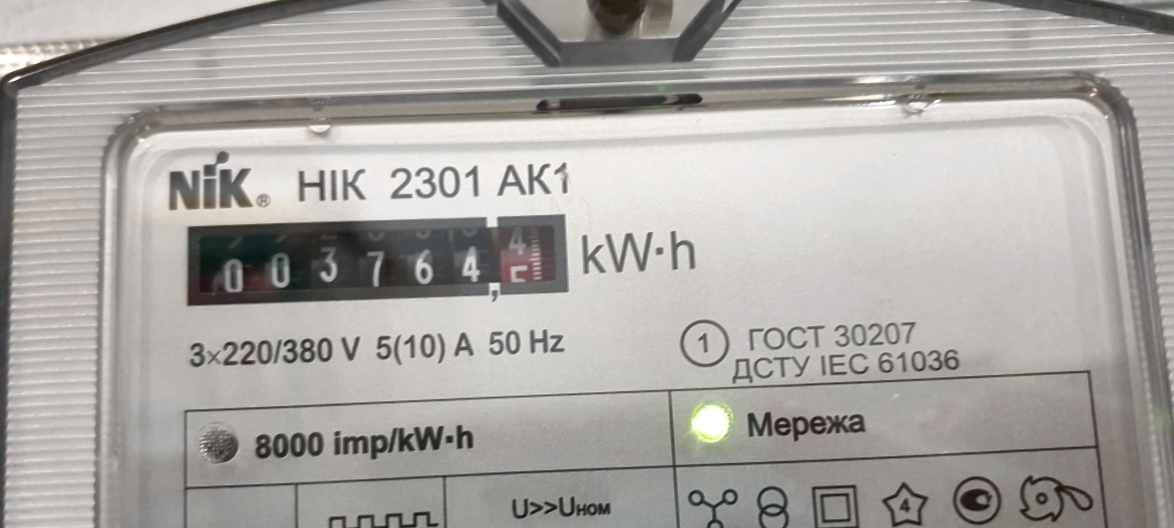0: (220, 257, 245, 296), (268, 251, 291, 292)
3: (315, 245, 339, 286)
4: (460, 246, 481, 286), (506, 226, 528, 258)
5: (507, 264, 529, 287)
6: (412, 248, 434, 288)
7: (363, 248, 388, 291)
screen: (169, 198, 584, 323)
